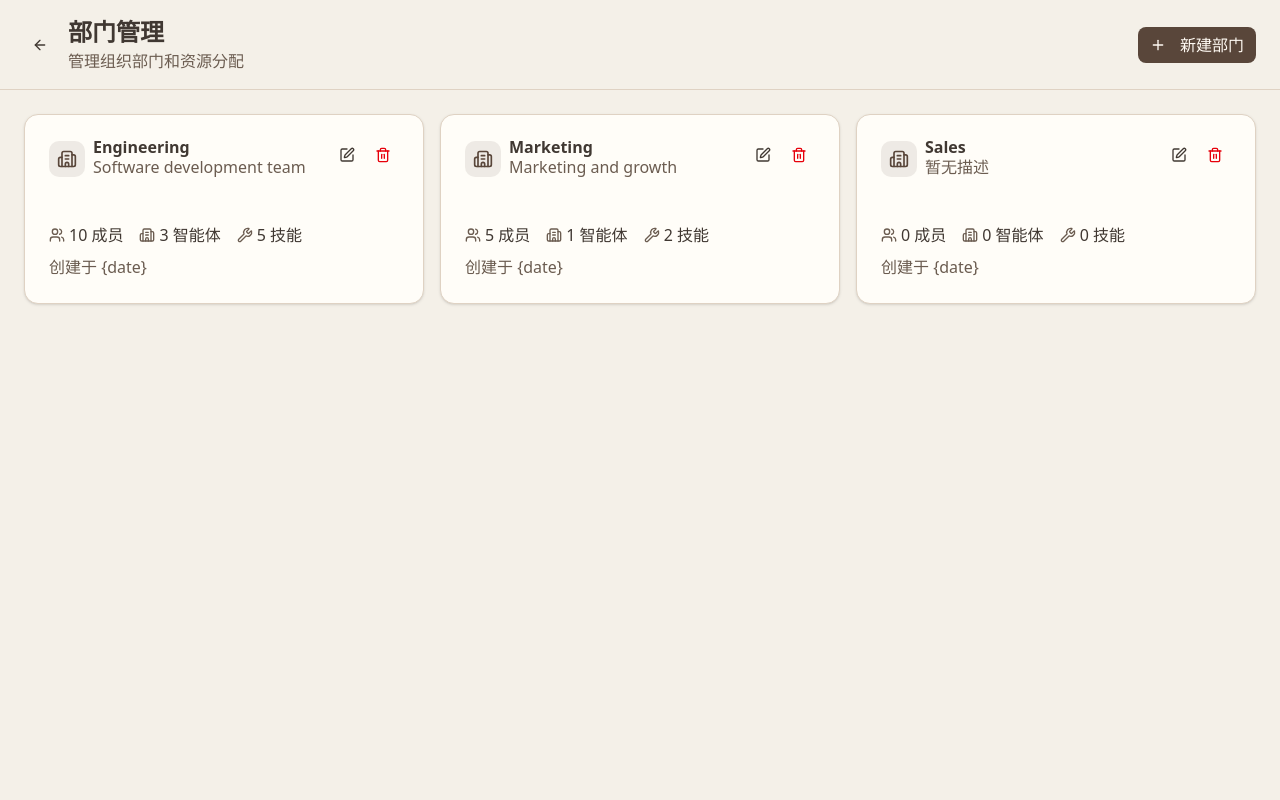
Test case: DepartmentsPage › opens edit dialog when clicking edit button
Expected: the element with test id "department-list" is shown, [24,114,1256,304]
Click the button with test id "department-edit-button" at [347, 155], box [331,139,363,171]
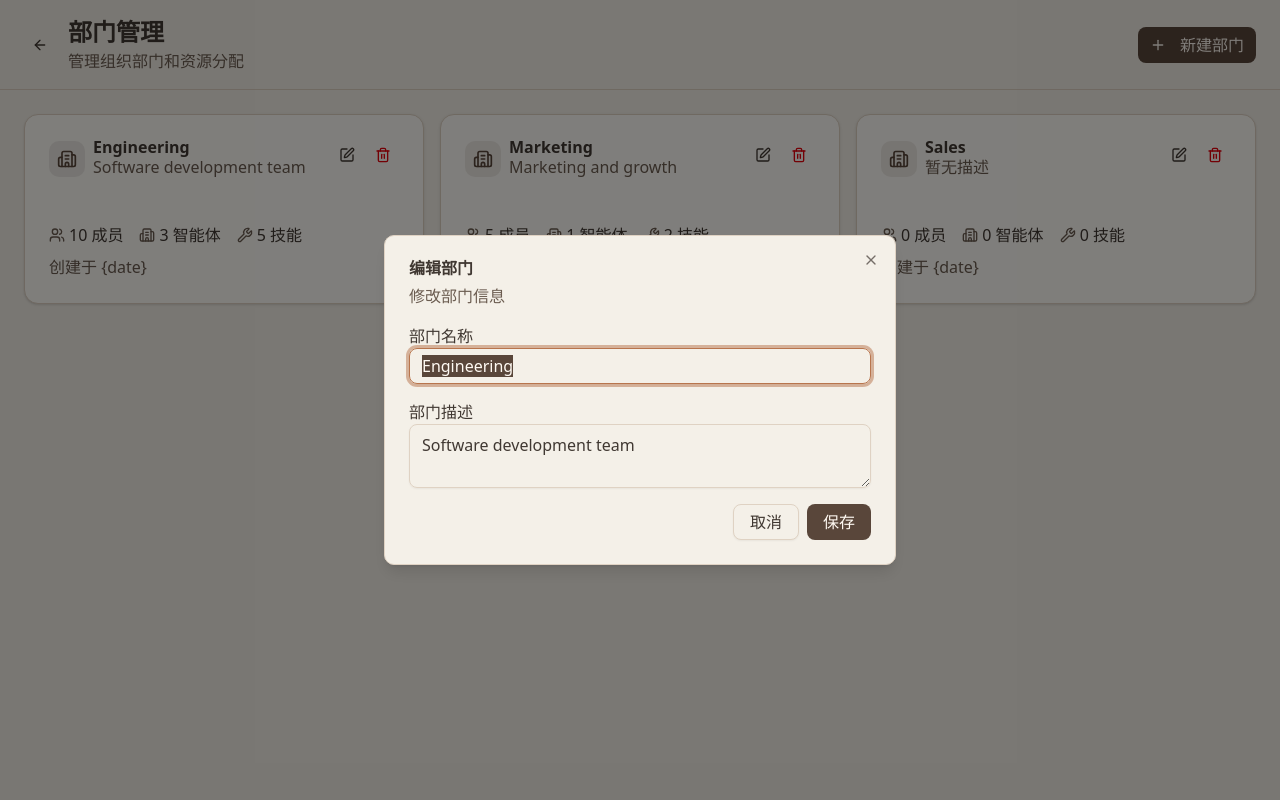
Result: the text "修改部门信息" is shown at [409,285,505,307]
